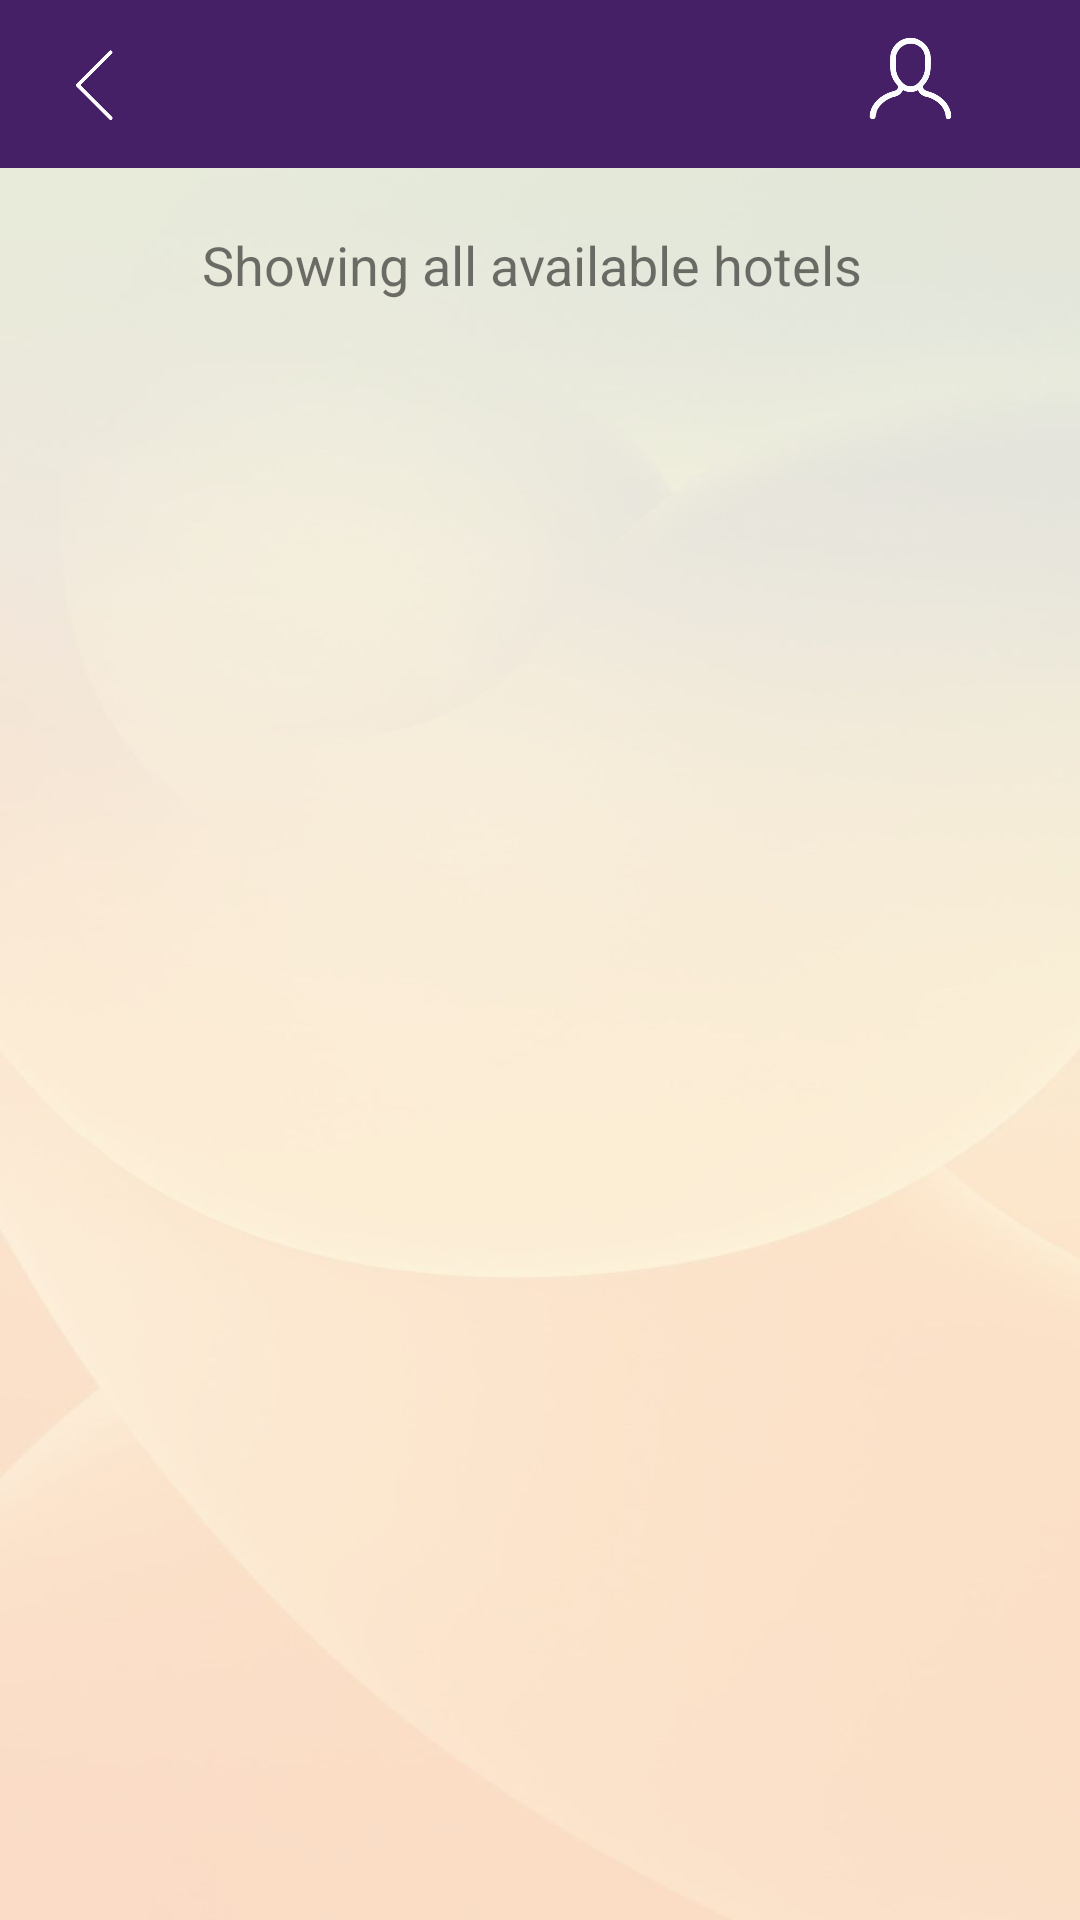

Named icons in this screenshot (1080 x 1920) and their bounding boxes, (x1, y1, x2, y2):
flecha izquierda: (76, 50, 113, 120)
profile: (869, 38, 951, 119)
